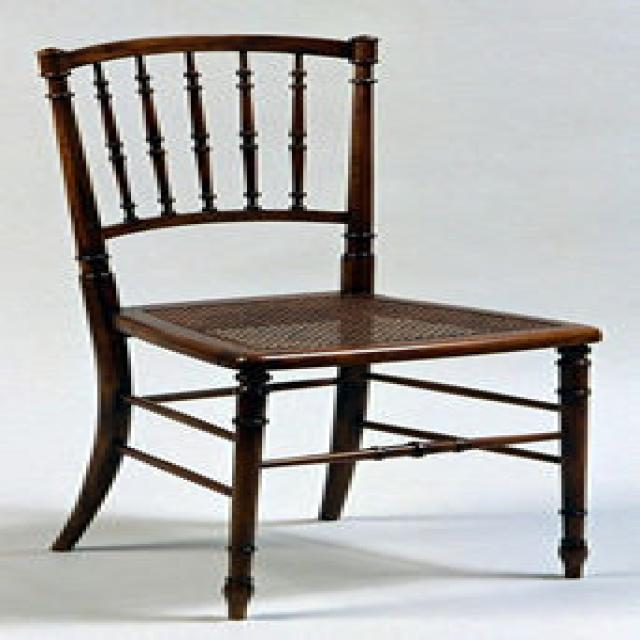chair: (30, 29, 601, 618)
